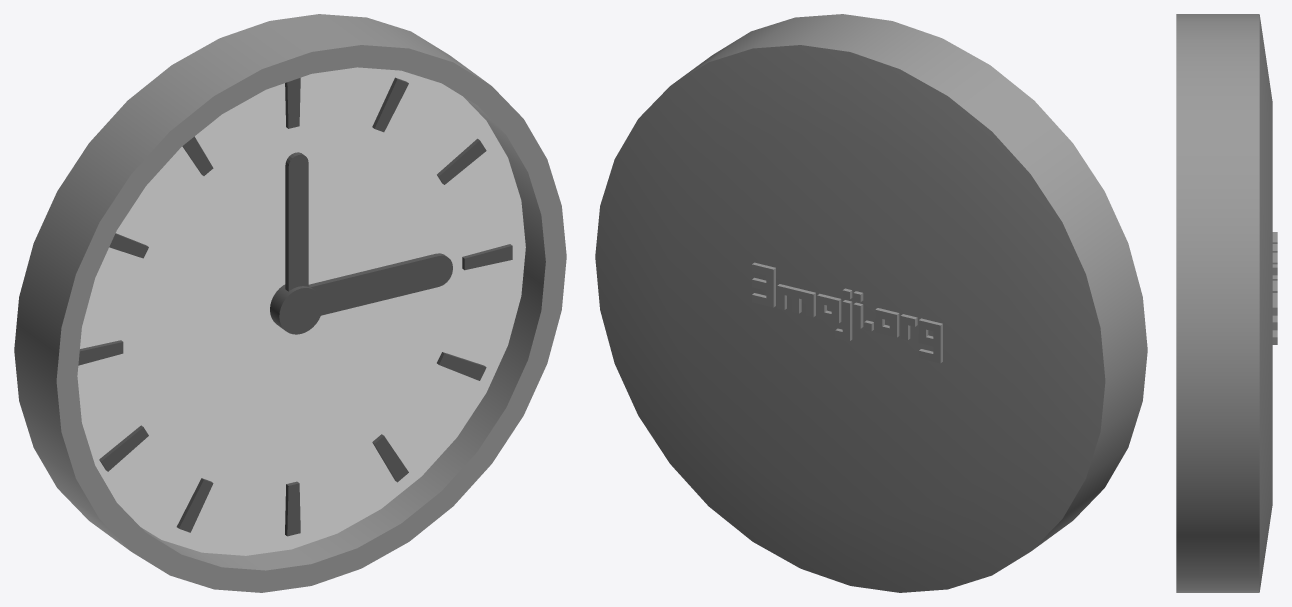
File: three_oclock.fbx
3 renders of one model, left to right at view 1: azimuth 30°, elevation 25°; view 2: azimuth 150°, elevation 25°; view 3: azimuth 270°, elevation 25°, orthographic.
Visible parts, largest first — view 1: Circle.2447; view 2: Circle.2447; view 3: Circle.2447.
Part boxes in pixels (x1,y1,x2,y2): Circle.2447: [14, 14, 566, 592]; Circle.2447: [595, 14, 1147, 592]; Circle.2447: [1176, 14, 1277, 592].
Size of the model in its own units: 233 by 233 by 40.69.
1 material, 1 textured.
